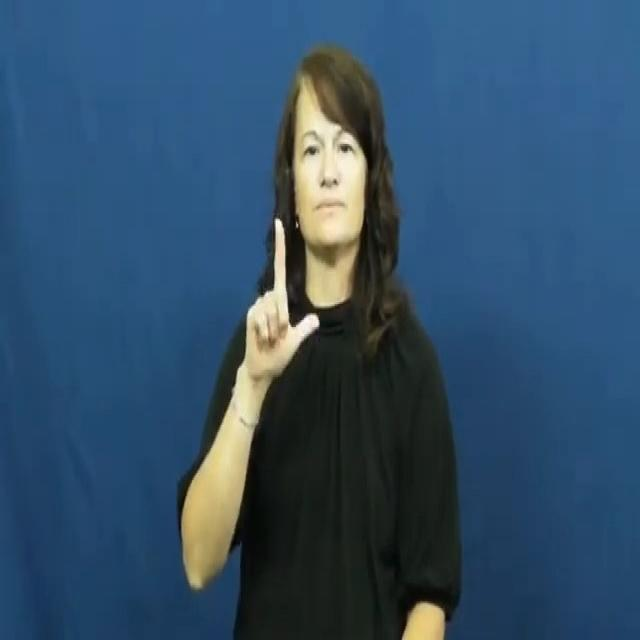enjoy: (242, 210, 330, 398)
